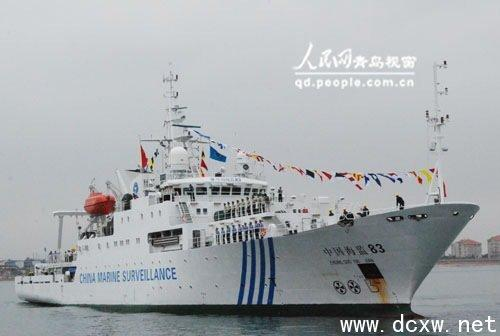warship: (6, 71, 481, 311)
